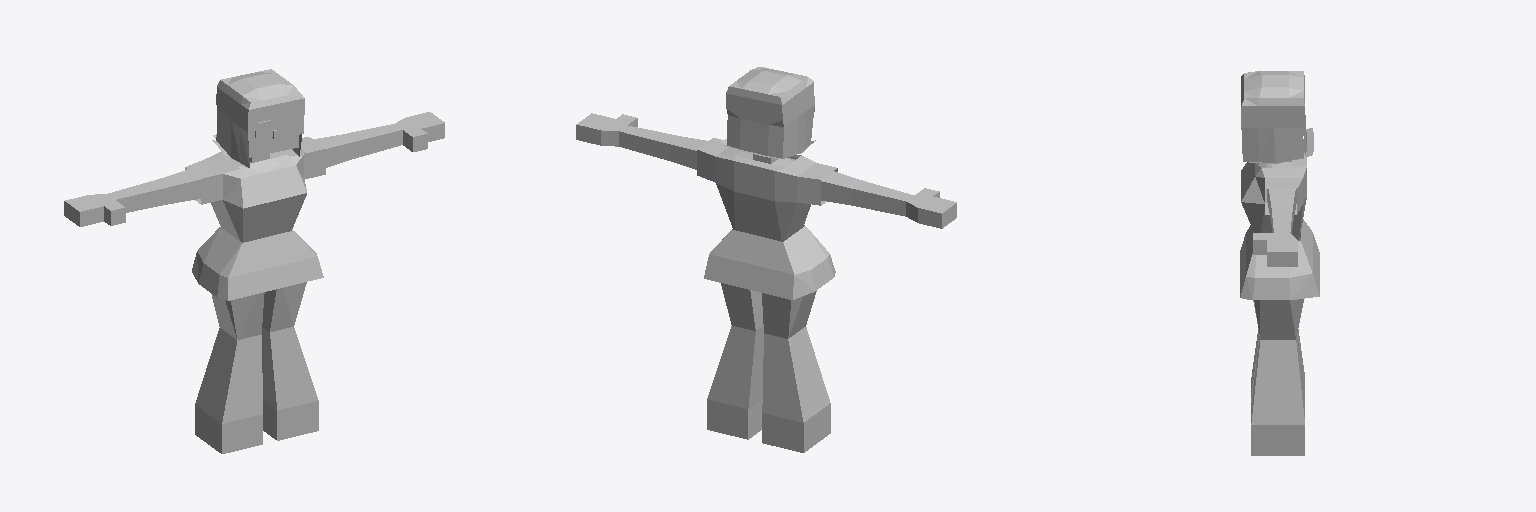
Rendered from Player.obj.
3 views of the same model, side by side, from view 1: azimuth 30°, elevation 25°; view 2: azimuth 150°, elevation 25°; view 3: azimuth 270°, elevation 25° (orthographic).
Visible parts, largest first — view 1: 立方体.002, 服, スカート, 髪; view 2: 立方体.002, 服, 髪, スカート; view 3: 立方体.002, 髪, スカート, 服.
Part boxes in pixels (bbox=[...]): 立方体.002: bbox=[64, 110, 444, 453]; 服: bbox=[185, 137, 325, 242]; スカート: bbox=[192, 227, 323, 300]; 髪: bbox=[212, 69, 305, 168]; 立方体.002: bbox=[576, 113, 956, 452]; 服: bbox=[697, 138, 837, 241]; 髪: bbox=[720, 67, 815, 158]; スカート: bbox=[704, 225, 835, 299]; 立方体.002: bbox=[1251, 160, 1304, 455]; 髪: bbox=[1241, 71, 1313, 163]; スカート: bbox=[1240, 219, 1319, 299]; 服: bbox=[1241, 153, 1306, 240].
Bounding box in the file's own units: 12.97 × 11.95 × 2.45.